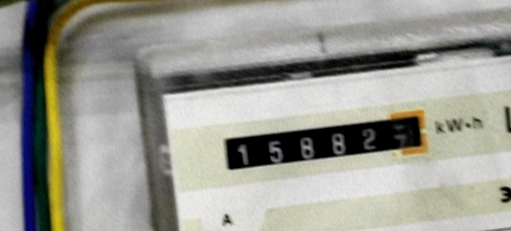1: (235, 140, 252, 167)
2: (360, 123, 379, 151)
5: (266, 137, 285, 163)
7: (392, 130, 408, 148)
8: (297, 133, 316, 159), (329, 128, 347, 154)
screen: (209, 100, 440, 184)
